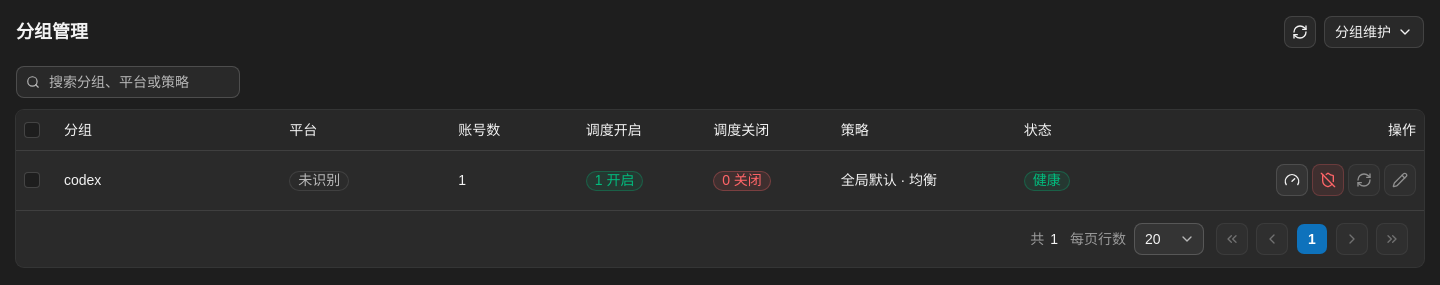
Test: 策略读取失败时禁止编辑，刷新成功后恢复编辑
Expected: the button named "编辑分组" is disabled, [1384, 164, 1416, 196]
Click the button named "刷新分组": (1300, 32) [1284, 16, 1316, 48]
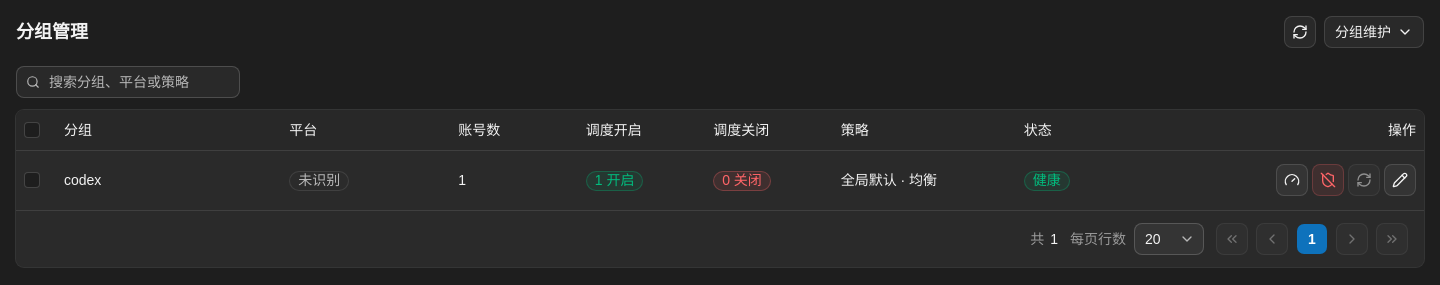
Result: the button named "编辑分组" is enabled at [1384, 164, 1416, 196]
